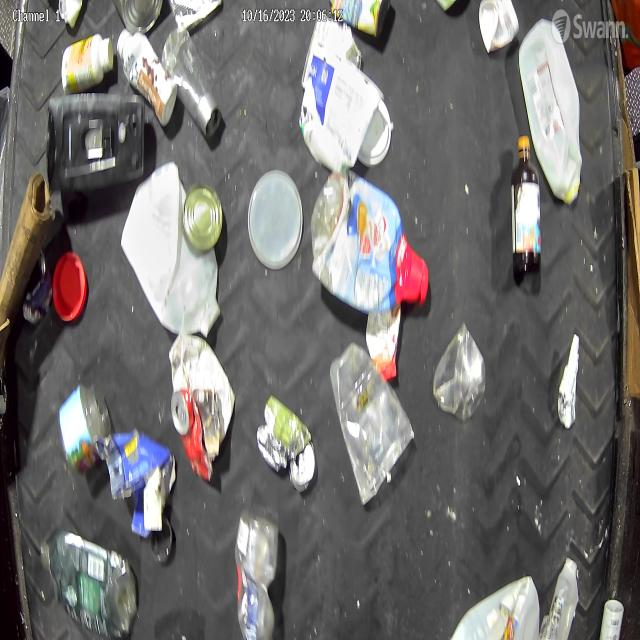can: (170, 388, 215, 483), (305, 14, 362, 68), (182, 182, 224, 250), (330, 0, 389, 38), (558, 332, 580, 430), (168, 0, 224, 31), (113, 0, 163, 34), (290, 439, 316, 494)
milk_jug: (120, 160, 222, 338), (518, 17, 582, 207), (449, 573, 540, 640), (539, 555, 579, 640)
plastic_bottle: (234, 512, 279, 640)
